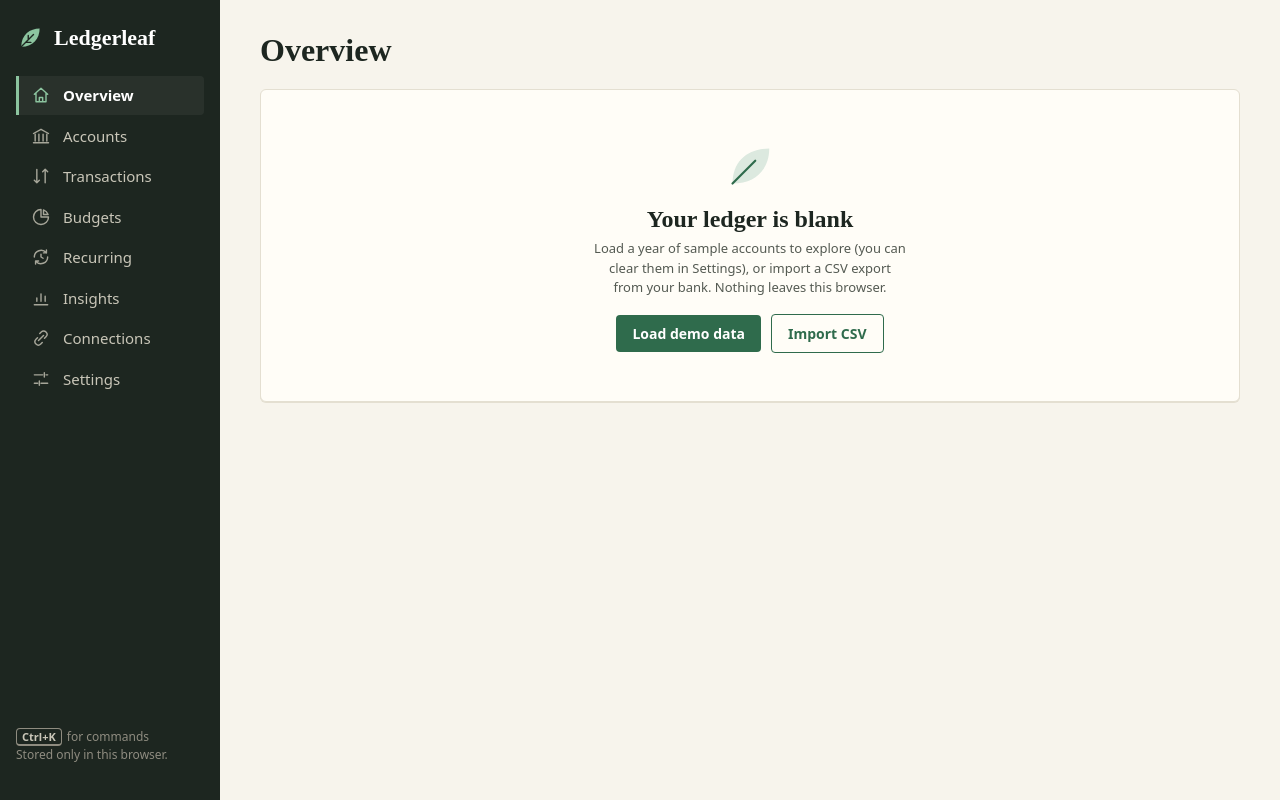
Test: command palette › filters commands and says when nothing matches
Type keys "{Control>}k{/Control}"
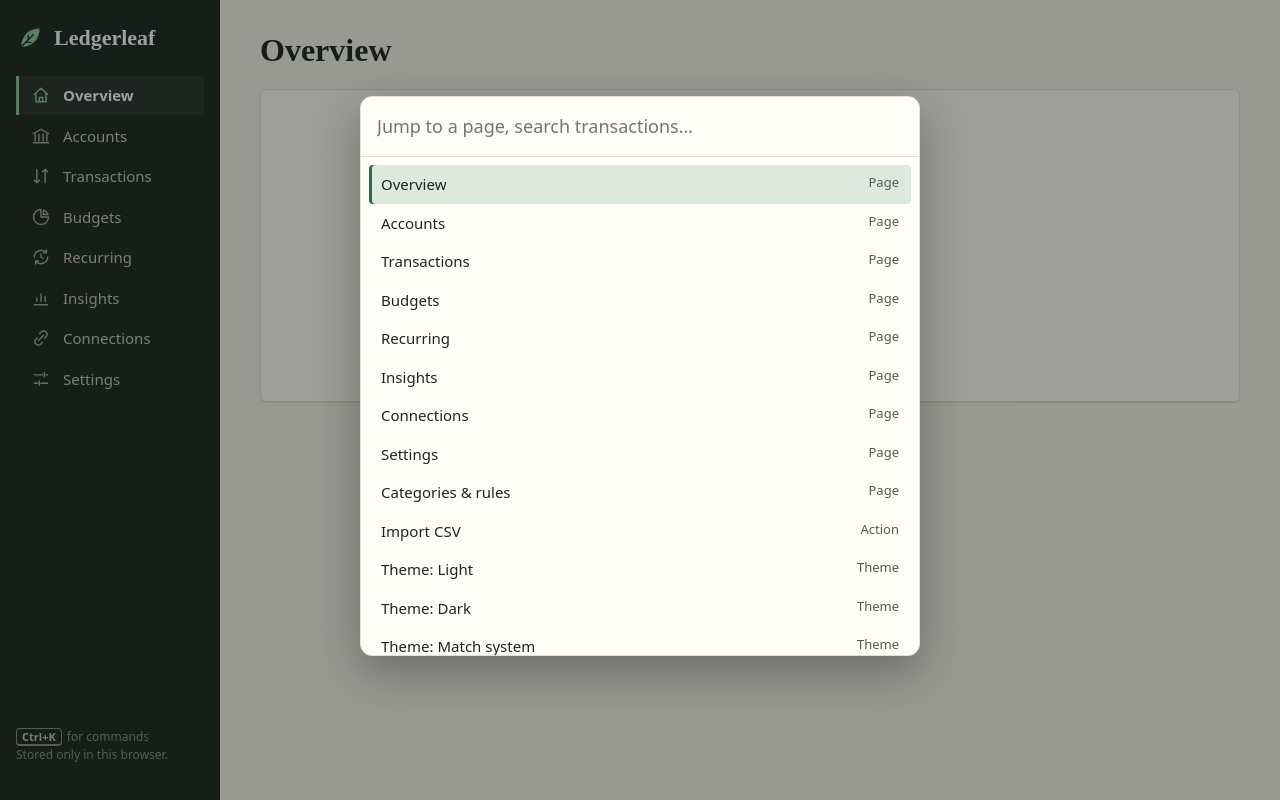
In the dropdown named "Search commands": (640, 127) [361,97,919,157], type "BUDG"
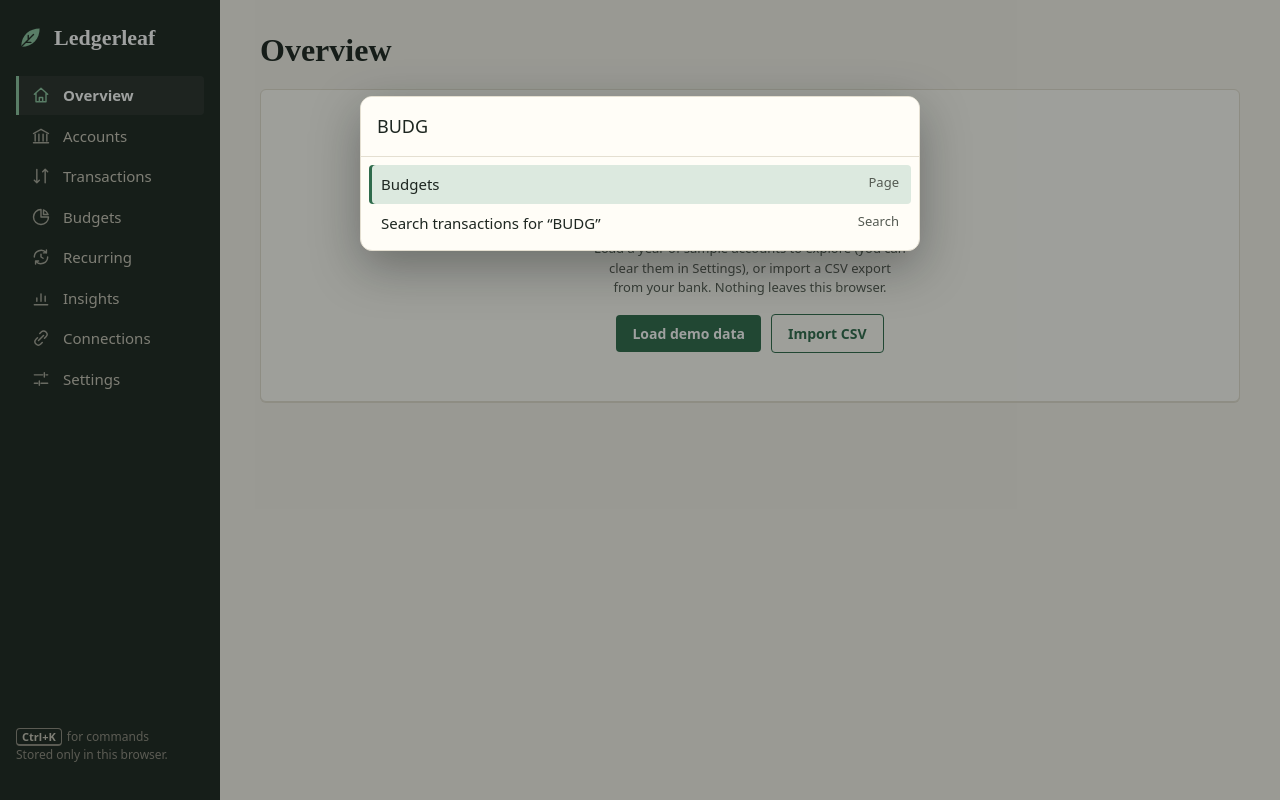
expect the text "No matches" is not shown: met
Replace the text in the dropdown named "Search commands" with "zzz": (640, 127) [361,97,919,157]
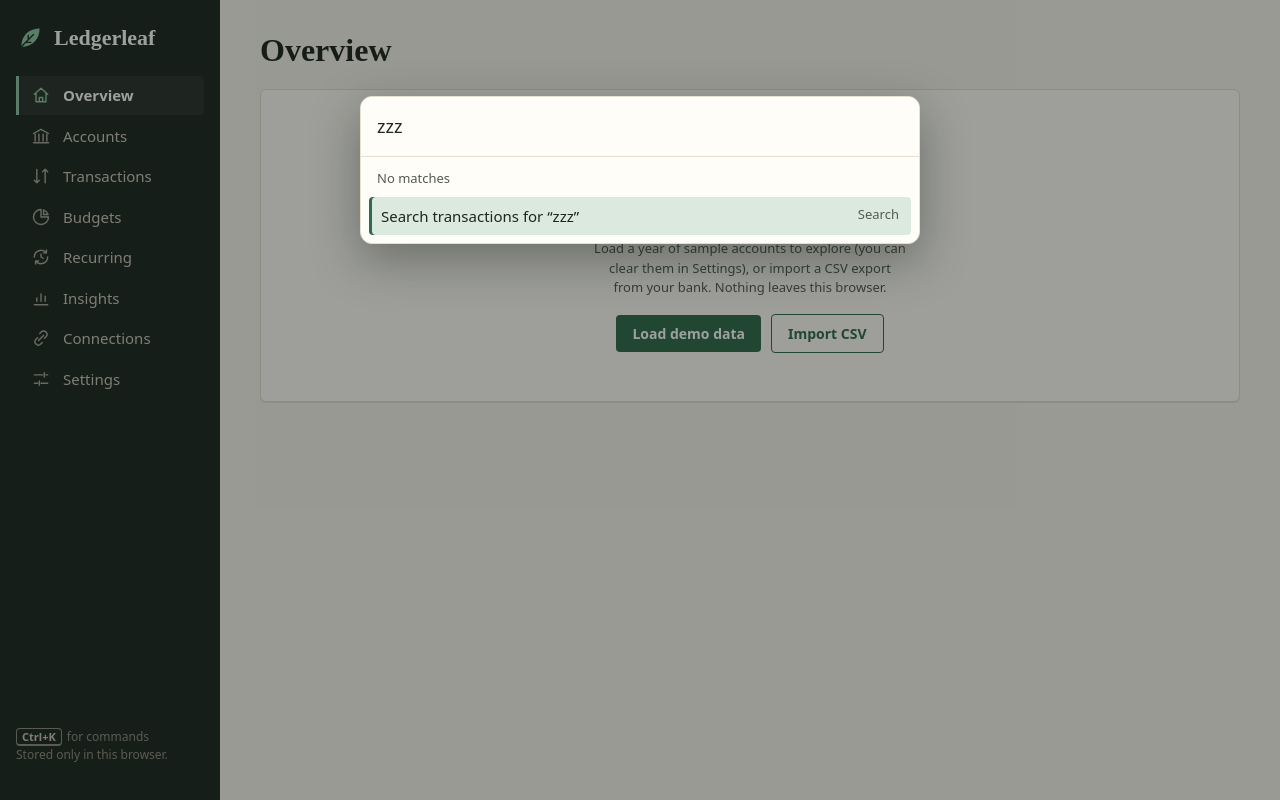
expect the text "No matches" is shown: met, box [377,169,450,187]
